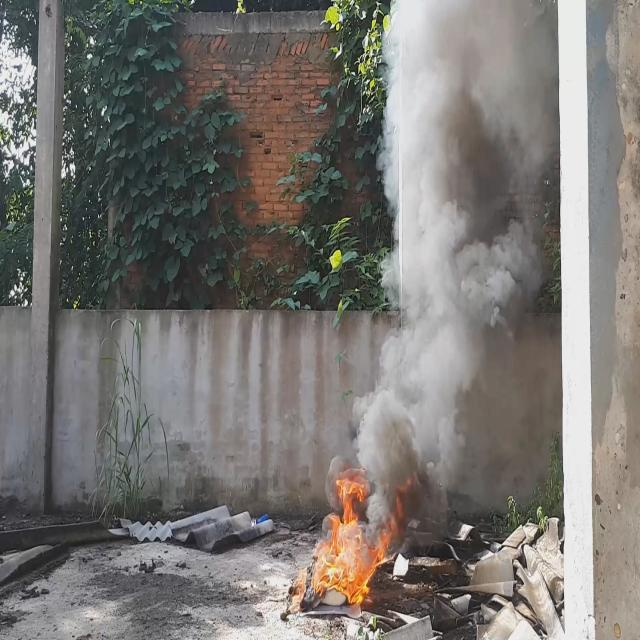Fire: (314, 472, 398, 604)
Smoke: (353, 0, 550, 522)
